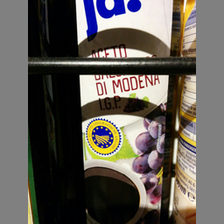vinegar: (76, 1, 173, 224)
